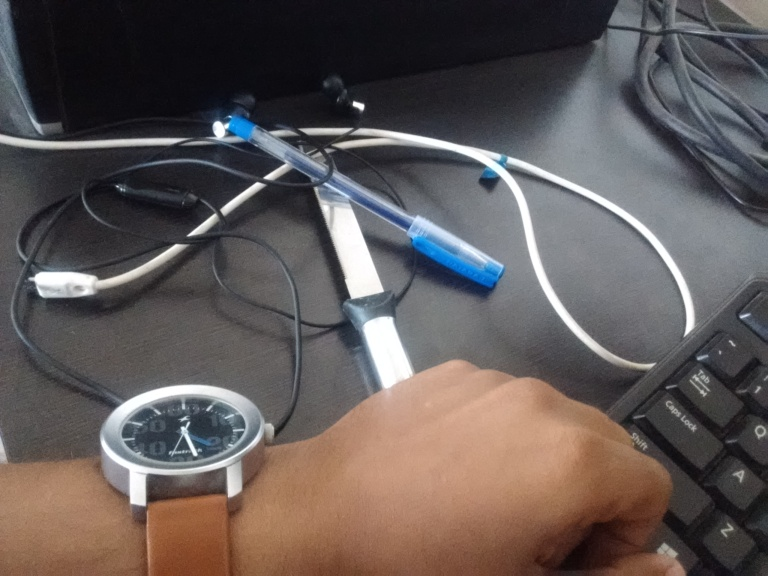knife: (294, 135, 421, 382)
